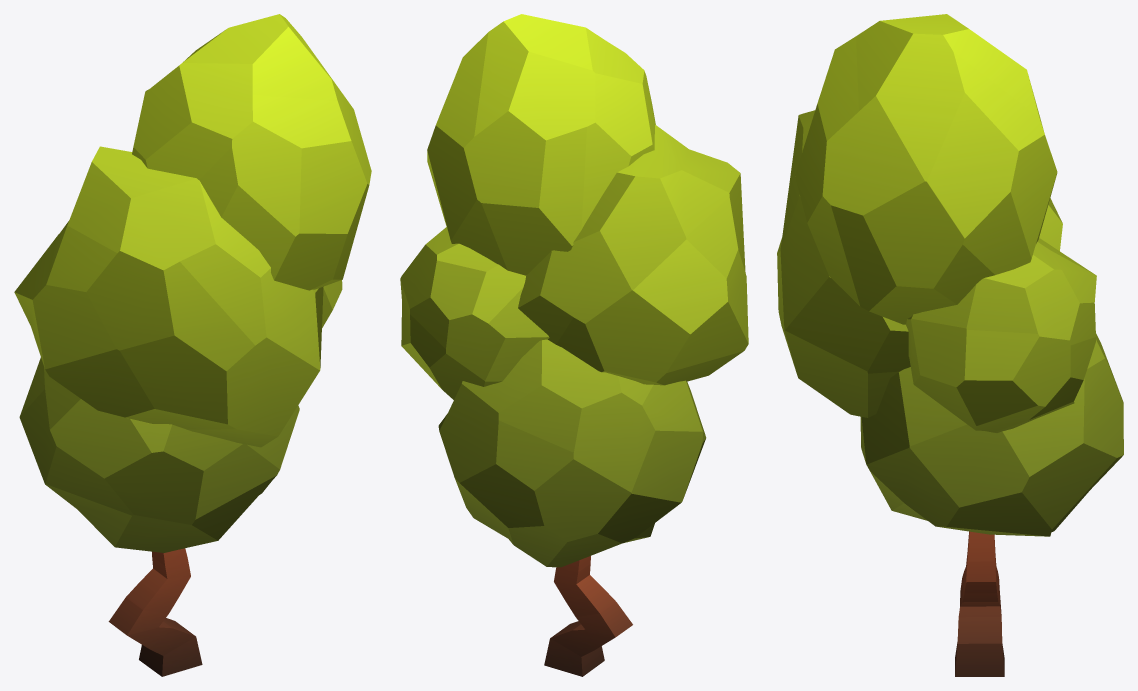
3 views of the same model, side by side, from view 1: azimuth 30°, elevation 25°; view 2: azimuth 150°, elevation 25°; view 3: azimuth 270°, elevation 25° (orthographic). The views are drawn at different scales.
Parts seen in each view (by area): view 1: 5.001; view 2: 5.001; view 3: 5.001.
Boxes of the visible parts, left/top/right/bottom form: 5.001: left=14, top=14, right=371, bottom=676; 5.001: left=400, top=14, right=748, bottom=676; 5.001: left=777, top=14, right=1123, bottom=676.
Bounding box in the file's own units: 2.55 × 4.87 × 2.25.
Materials: 1 (1 with a texture image).
